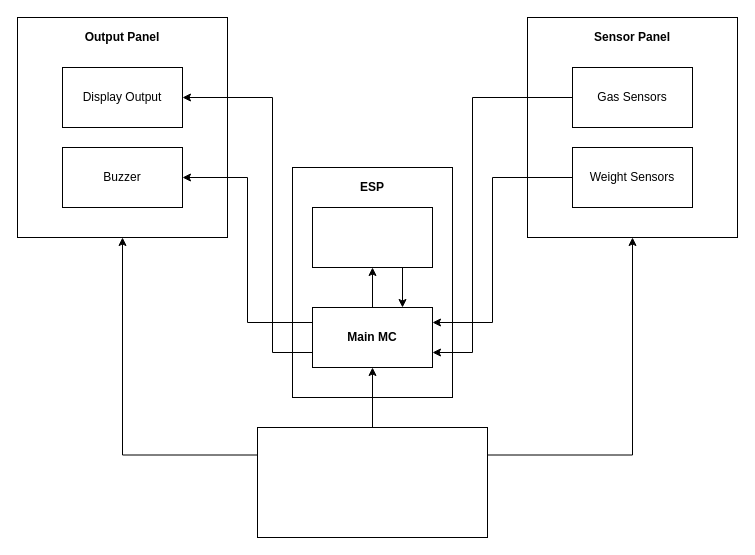
Some shapes in this 755 by 555 pixel diagram are drawn without their labels. The centre of each missing label's shape, as x and y in pixels:
"Power Unit" belongs at (372,482).
"Wifi" belongs at (372,237).
